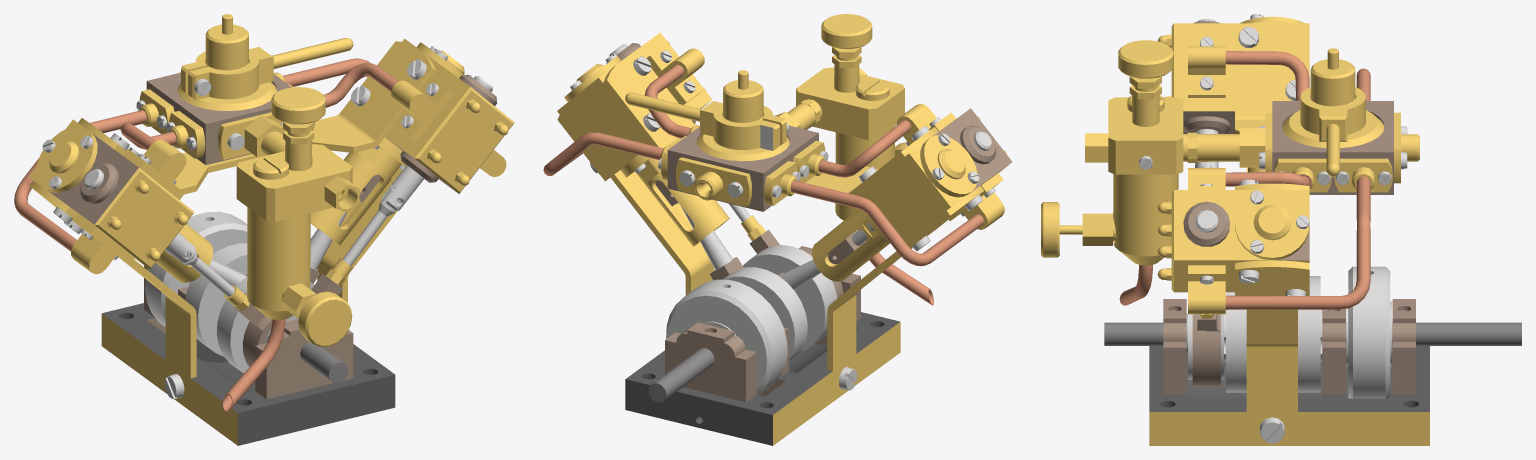
File: steamengine_v2.glb
3 views of the same model, side by side, from view 1: azimuth 30°, elevation 25°; view 2: azimuth 150°, elevation 25°; view 3: azimuth 270°, elevation 25° (orthographic). The views are drawn at different scales.
Visible parts, largest first — view 1: Object_6, Object_5, Object_2, Object_7, Object_4, Object_8; view 2: Object_6, Object_5, Object_2, Object_7, Object_4, Object_8; view 3: Object_6, Object_2, Object_5, Object_4, Object_7, Object_8.
Part boxes in pixels (x1,y1,x2,y2): Object_6: [28, 14, 514, 445]; Object_5: [42, 46, 492, 398]; Object_2: [47, 72, 497, 399]; Object_7: [102, 303, 395, 445]; Object_4: [14, 58, 398, 412]; Object_8: [300, 342, 348, 382]; Object_6: [557, 14, 1009, 445]; Object_5: [570, 44, 995, 394]; Object_2: [606, 43, 1012, 402]; Object_7: [625, 312, 899, 445]; Object_4: [543, 64, 983, 305]; Object_8: [648, 348, 714, 402]; Object_6: [1041, 16, 1429, 445]; Object_2: [1163, 21, 1415, 394]; Object_5: [1139, 14, 1407, 443]; Object_4: [1119, 51, 1370, 309]; Object_7: [1149, 346, 1429, 411]; Object_8: [1104, 322, 1521, 345].
Bounding box in the file's own units: 109 × 83.92 × 103.
